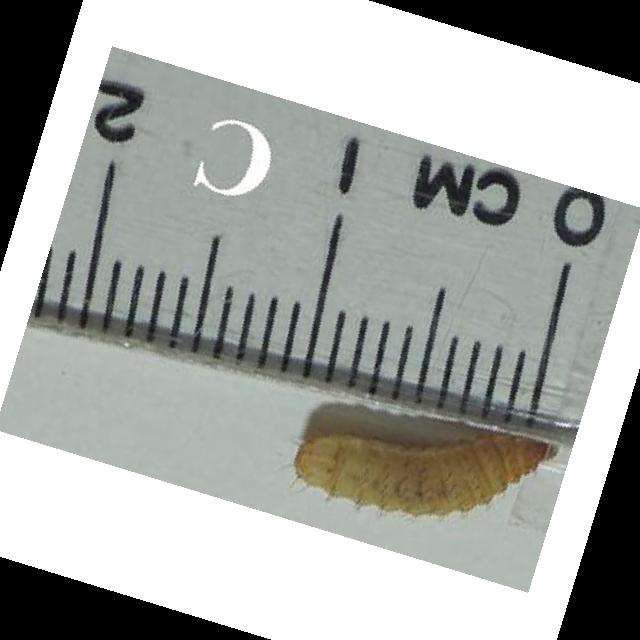Maggot: (292, 430, 563, 517)
